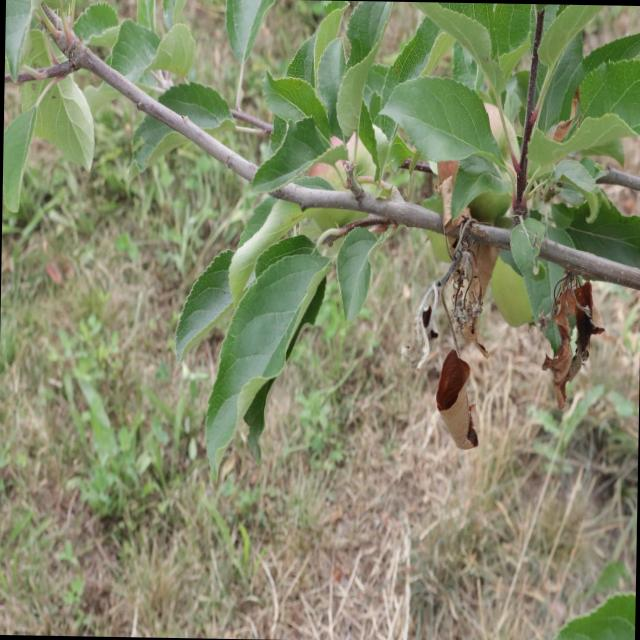-FireBlight-: (442, 160, 496, 338), (544, 258, 588, 402), (431, 336, 483, 454)
